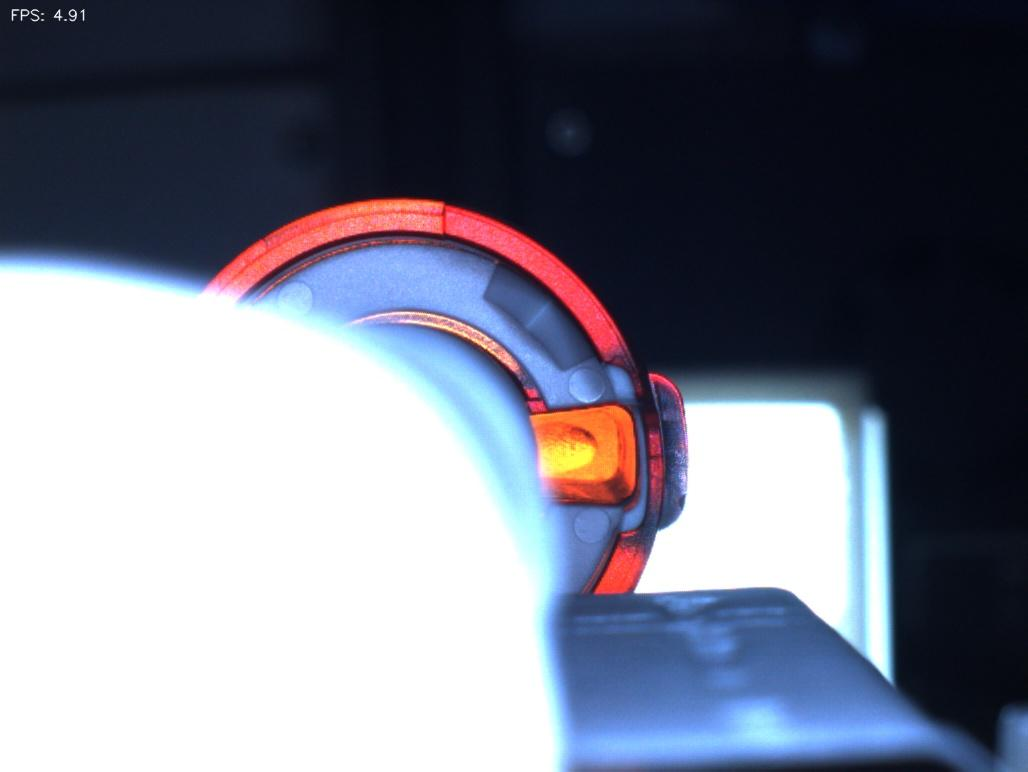Retassure: (530, 415, 617, 482)
